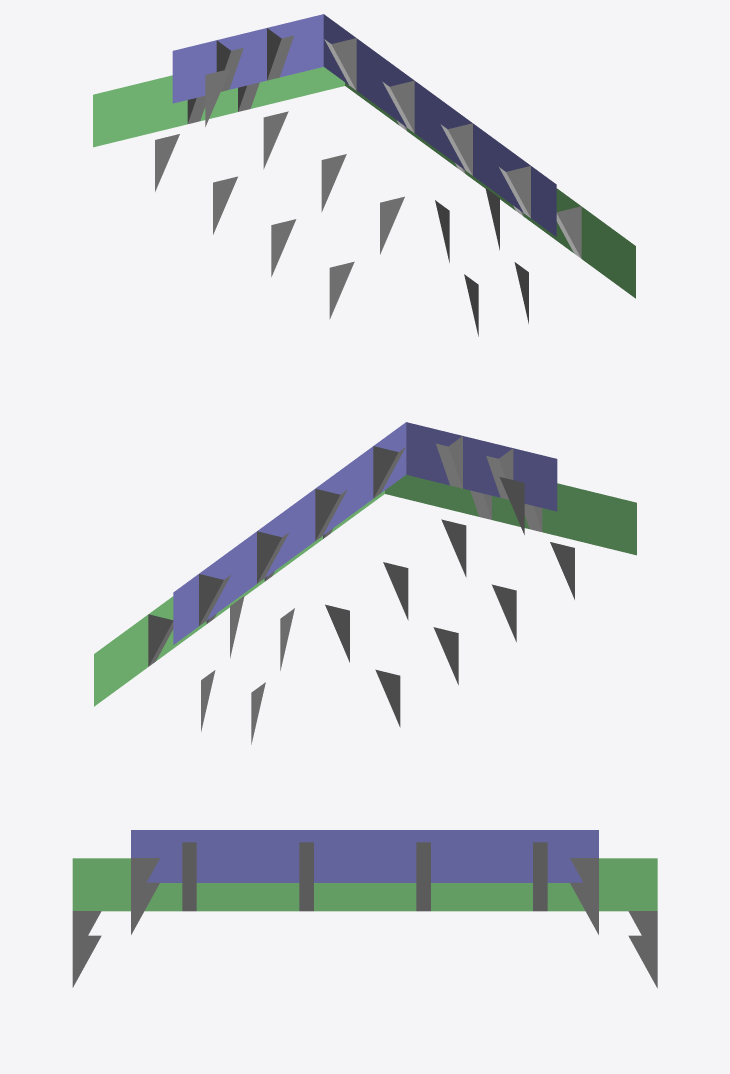
File: SSQ_dungeon_S__SSQ_Room02_Top.gltf
The picture shows the model from 3 angles, top to bottom: view 1: azimuth 30°, elevation 25°; view 2: azimuth 150°, elevation 25°; view 3: azimuth 270°, elevation 25°; orthographic projection.
Parts seen in each view (by area): view 1: SSQ_Room02_Top; view 2: SSQ_Room02_Top; view 3: SSQ_Room02_Top.
Boxes of the visible parts, x1,y1,x2,y2 form: SSQ_Room02_Top: [93, 14, 635, 336]; SSQ_Room02_Top: [94, 422, 636, 744]; SSQ_Room02_Top: [72, 830, 657, 988].
Size of the model in its own units: 8.96 by 2.56 by 15.36.
